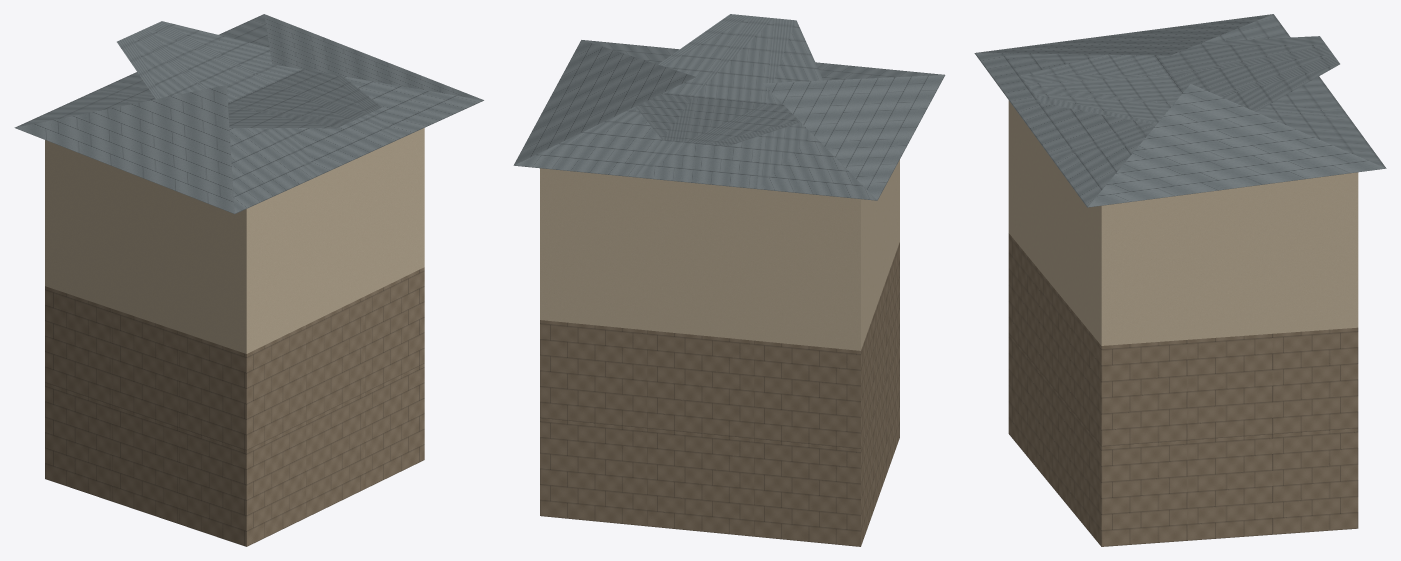
File: bld_c16_11_522.gltf
3 renders of one model, left to right at view 1: azimuth 30°, elevation 25°; view 2: azimuth 150°, elevation 25°; view 3: azimuth 270°, elevation 25°, orthographic. The views are drawn at different scales.
Parts seen in each view (by area): view 1: bld_c16_11_522; view 2: bld_c16_11_522; view 3: bld_c16_11_522.
Boxes of the visible parts, x1,y1,x2,y2 form: bld_c16_11_522: (14,14,483,546); bld_c16_11_522: (513,14,945,546); bld_c16_11_522: (974,14,1386,546).
Size of the model in its own units: 10.09 by 9.9 by 9.08.
3 materials, 3 textured.
